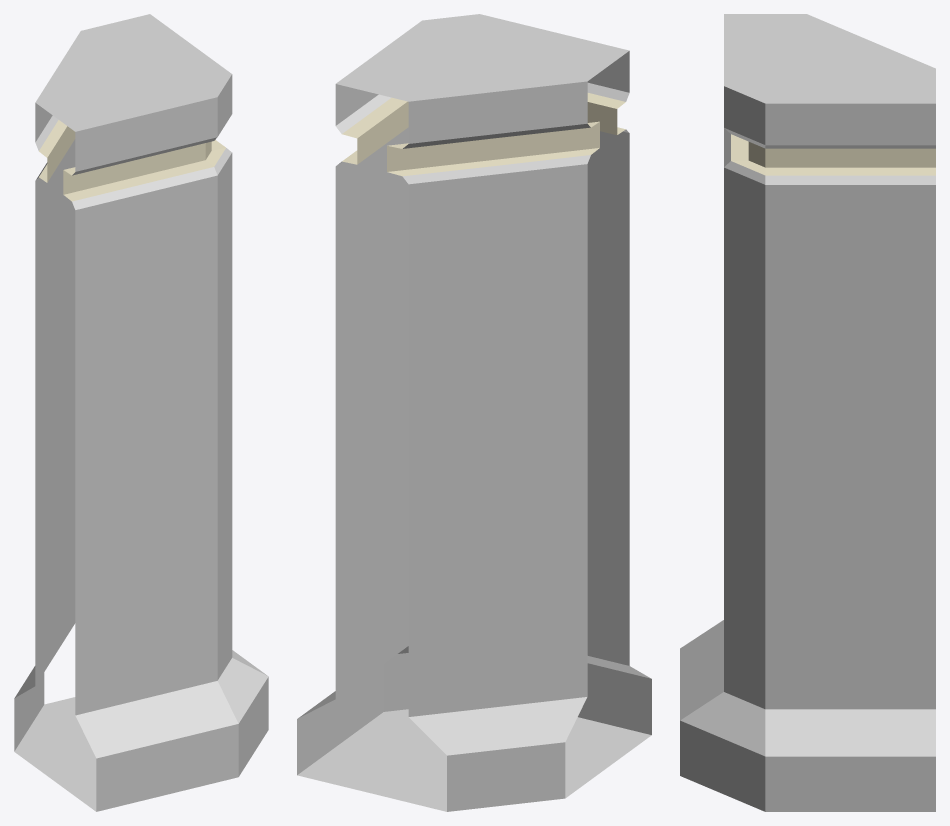
The model's file is wall-edge.fbx.
3 renders of one model, left to right at view 1: azimuth 30°, elevation 25°; view 2: azimuth 150°, elevation 25°; view 3: azimuth 270°, elevation 25°, orthographic. The views are drawn at different scales.
Visible parts, largest first — view 1: wall_edge; view 2: wall_edge; view 3: wall_edge.
Part boxes in pixels (x1,y1,x2,y2): wall_edge: (14,14,268,811); wall_edge: (297,14,651,811); wall_edge: (680,14,935,811).
Bounding box in the file's own units: 75 × 223 × 75.
